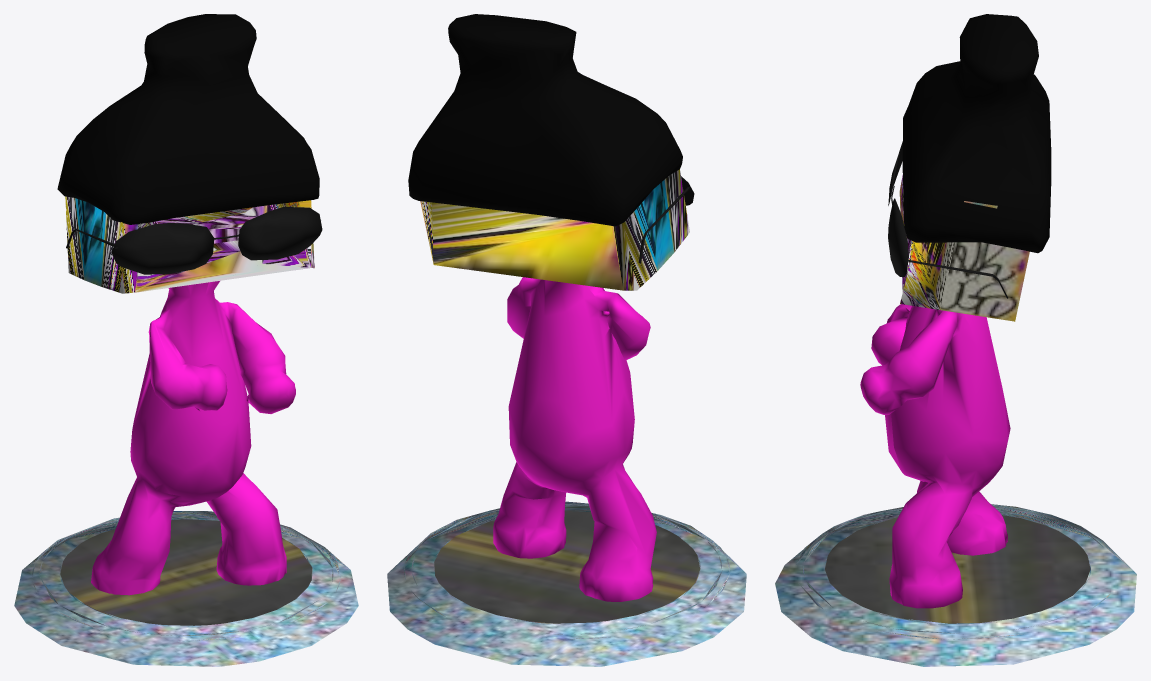
The picture shows the model from 3 angles, left to right: view 1: azimuth 30°, elevation 25°; view 2: azimuth 150°, elevation 25°; view 3: azimuth 270°, elevation 25°; orthographic projection. The views are drawn at different scales.
Size of the model in its own units: 1.43 by 2.49 by 1.43.
6 materials, 3 textured.
